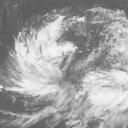cyclone: (19, 27, 103, 105)
